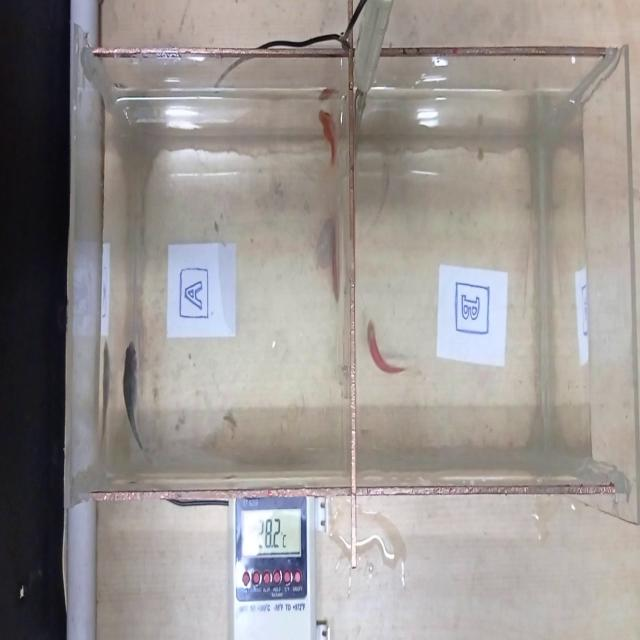Fish A1: (118, 327, 161, 468)
Fish A2: (320, 107, 344, 177)
Fish A3: (321, 209, 345, 323)
Fish B: (366, 310, 419, 390)
